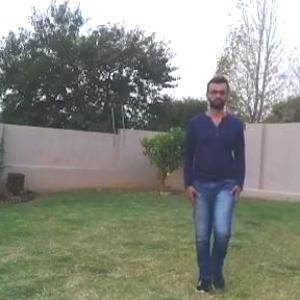follow: (185, 95, 242, 270)
